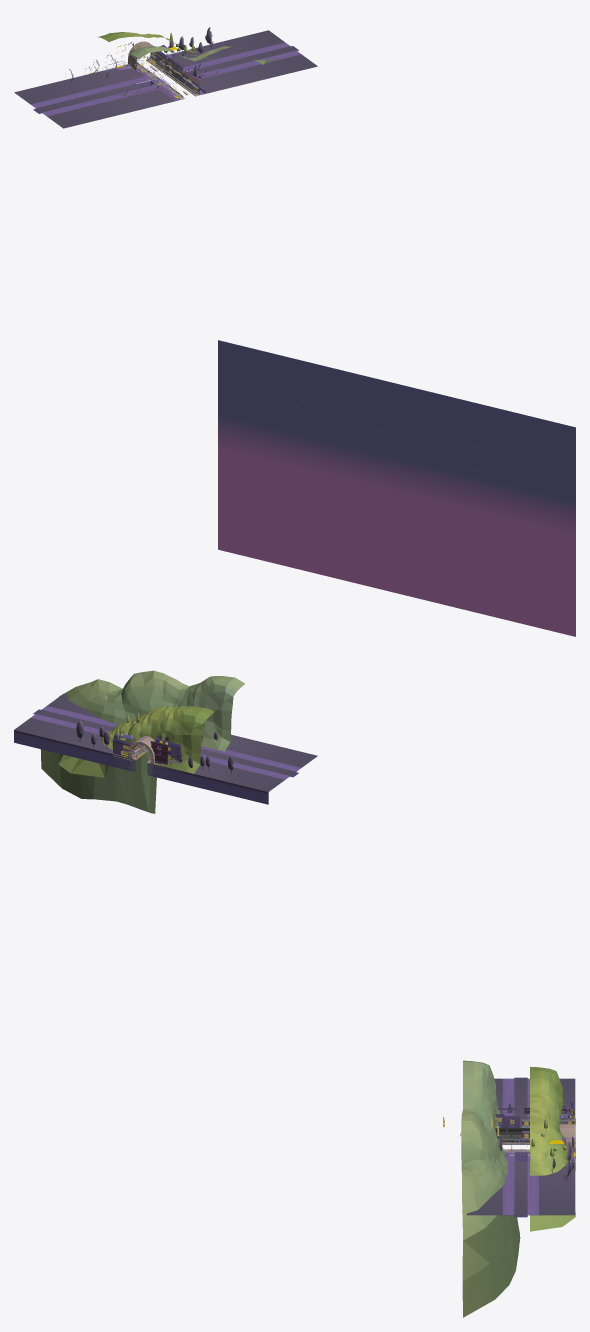
The model's file is Becca_Enviroments_Flattened.glb.
3 renders of one model, top to bottom at view 1: azimuth 30°, elevation 25°; view 2: azimuth 150°, elevation 25°; view 3: azimuth 270°, elevation 25°, orthographic. The views are drawn at different scales.
Visible parts, largest first — view 1: Angela2_CityShopSet02_30_new, Angela2_CityShopSet01_30_new, hank1_Tunnel_08_MESH, Angela2_CityShopSet01_10_new; view 2: Angela2_background_MESH, hank1_Tunnel_08_MESH, Angela2_CityShopSet02_30_new, Angela2_CityShopSet01_10_new, Angela2_CityShopSet01_30_new; view 3: hank1_Tunnel_08_MESH, Angela2_CityShopSet02_30_new, Angela2_CityShopSet01_30_new.
Boxes of the visible parts, <box> form: Angela2_CityShopSet02_30_new: <box>14,30,317,128</box>; Angela2_CityShopSet01_30_new: <box>36,31,295,112</box>; hank1_Tunnel_08_MESH: <box>89,32,275,99</box>; Angela2_CityShopSet01_10_new: <box>65,27,213,87</box>; Angela2_background_MESH: <box>218,340,575,636</box>; hank1_Tunnel_08_MESH: <box>40,670,244,813</box>; Angela2_CityShopSet02_30_new: <box>14,693,317,804</box>; Angela2_CityShopSet01_10_new: <box>14,721,268,802</box>; Angela2_CityShopSet01_30_new: <box>14,709,299,801</box>; hank1_Tunnel_08_MESH: <box>461,1060,575,1317</box>; Angela2_CityShopSet02_30_new: <box>466,1077,575,1217</box>; Angela2_CityShopSet01_30_new: <box>495,1078,574,1215</box>.
Size of the model in its own units: 125 by 91.23 by 155.
